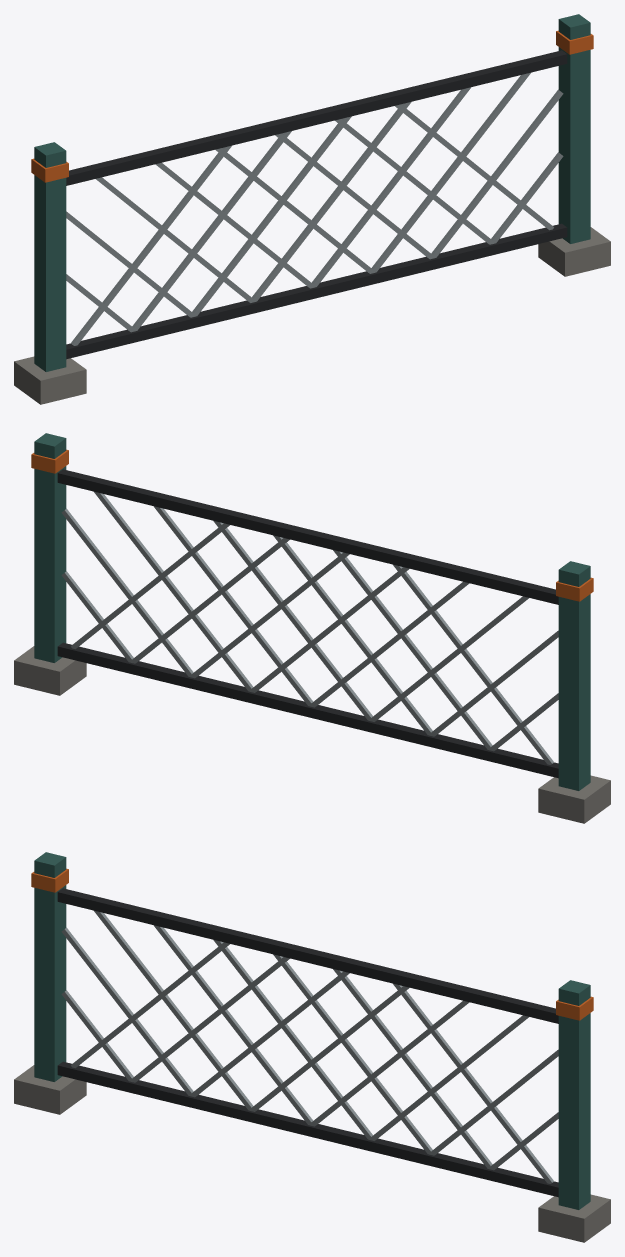
File: poi_fence_panel.glb
3 views of the same model, one above another, from view 1: azimuth 30°, elevation 25°; view 2: azimuth 150°, elevation 25°; view 3: azimuth 330°, elevation 25° (orthographic).
Visible parts, largest first — view 1: FencePanel; view 2: FencePanel; view 3: FencePanel.
Part boxes in pixels (left/top/right/bottom): FencePanel: left=14, top=14, right=610, bottom=404; FencePanel: left=14, top=433, right=610, bottom=823; FencePanel: left=14, top=852, right=610, bottom=1242.
Bounding box in the file's own units: 6.2 × 2.5 × 0.5.
